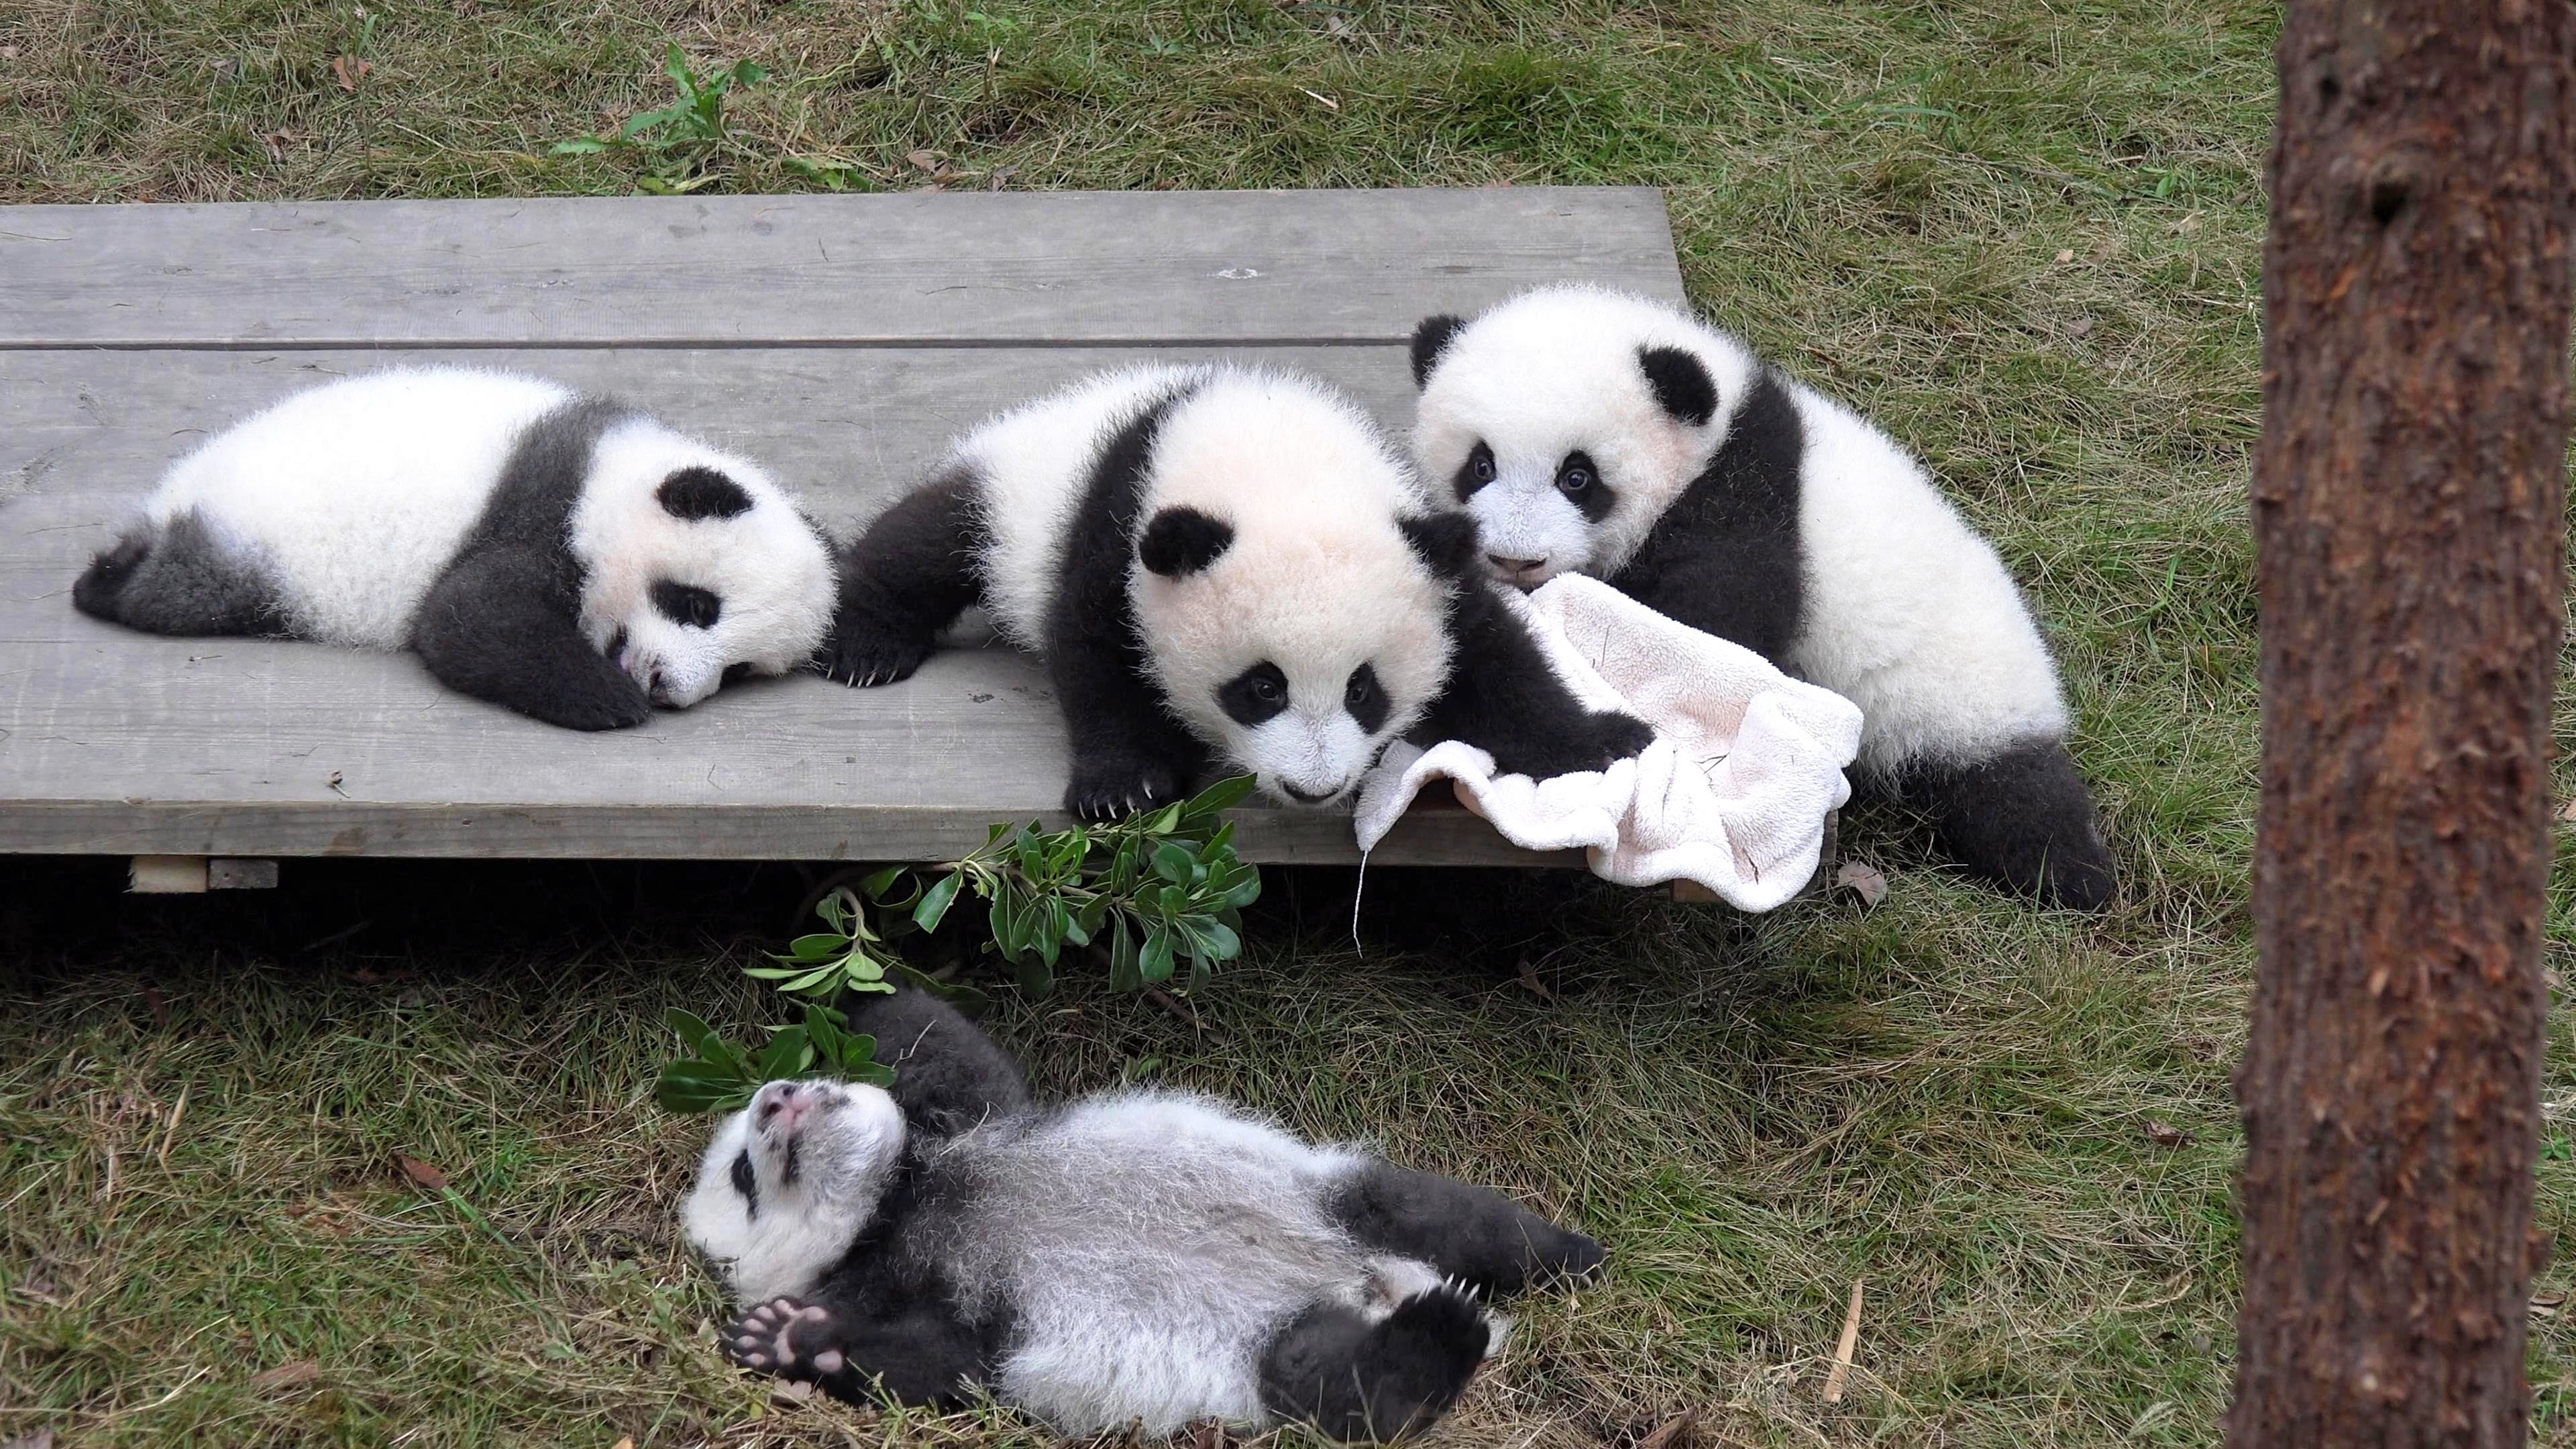panda: (1412, 278, 2137, 931), (536, 1010, 1546, 1415), (786, 299, 1530, 830), (119, 313, 878, 766)
